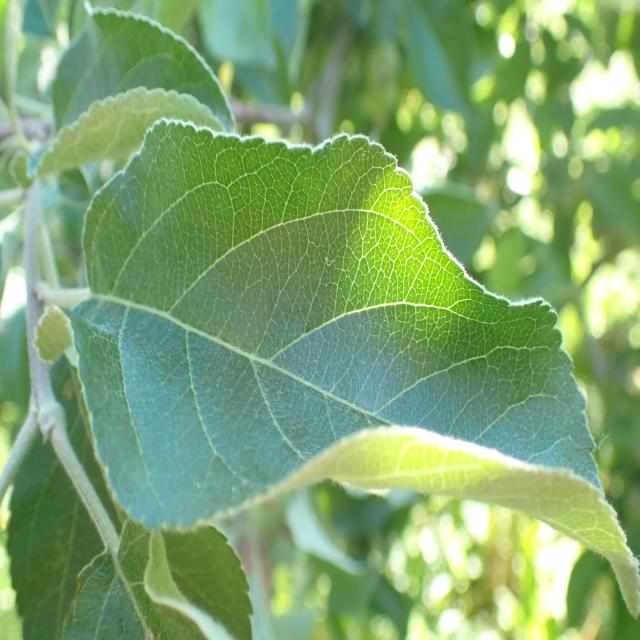healthy: (63, 119, 640, 623), (27, 4, 237, 182), (59, 516, 254, 640)
